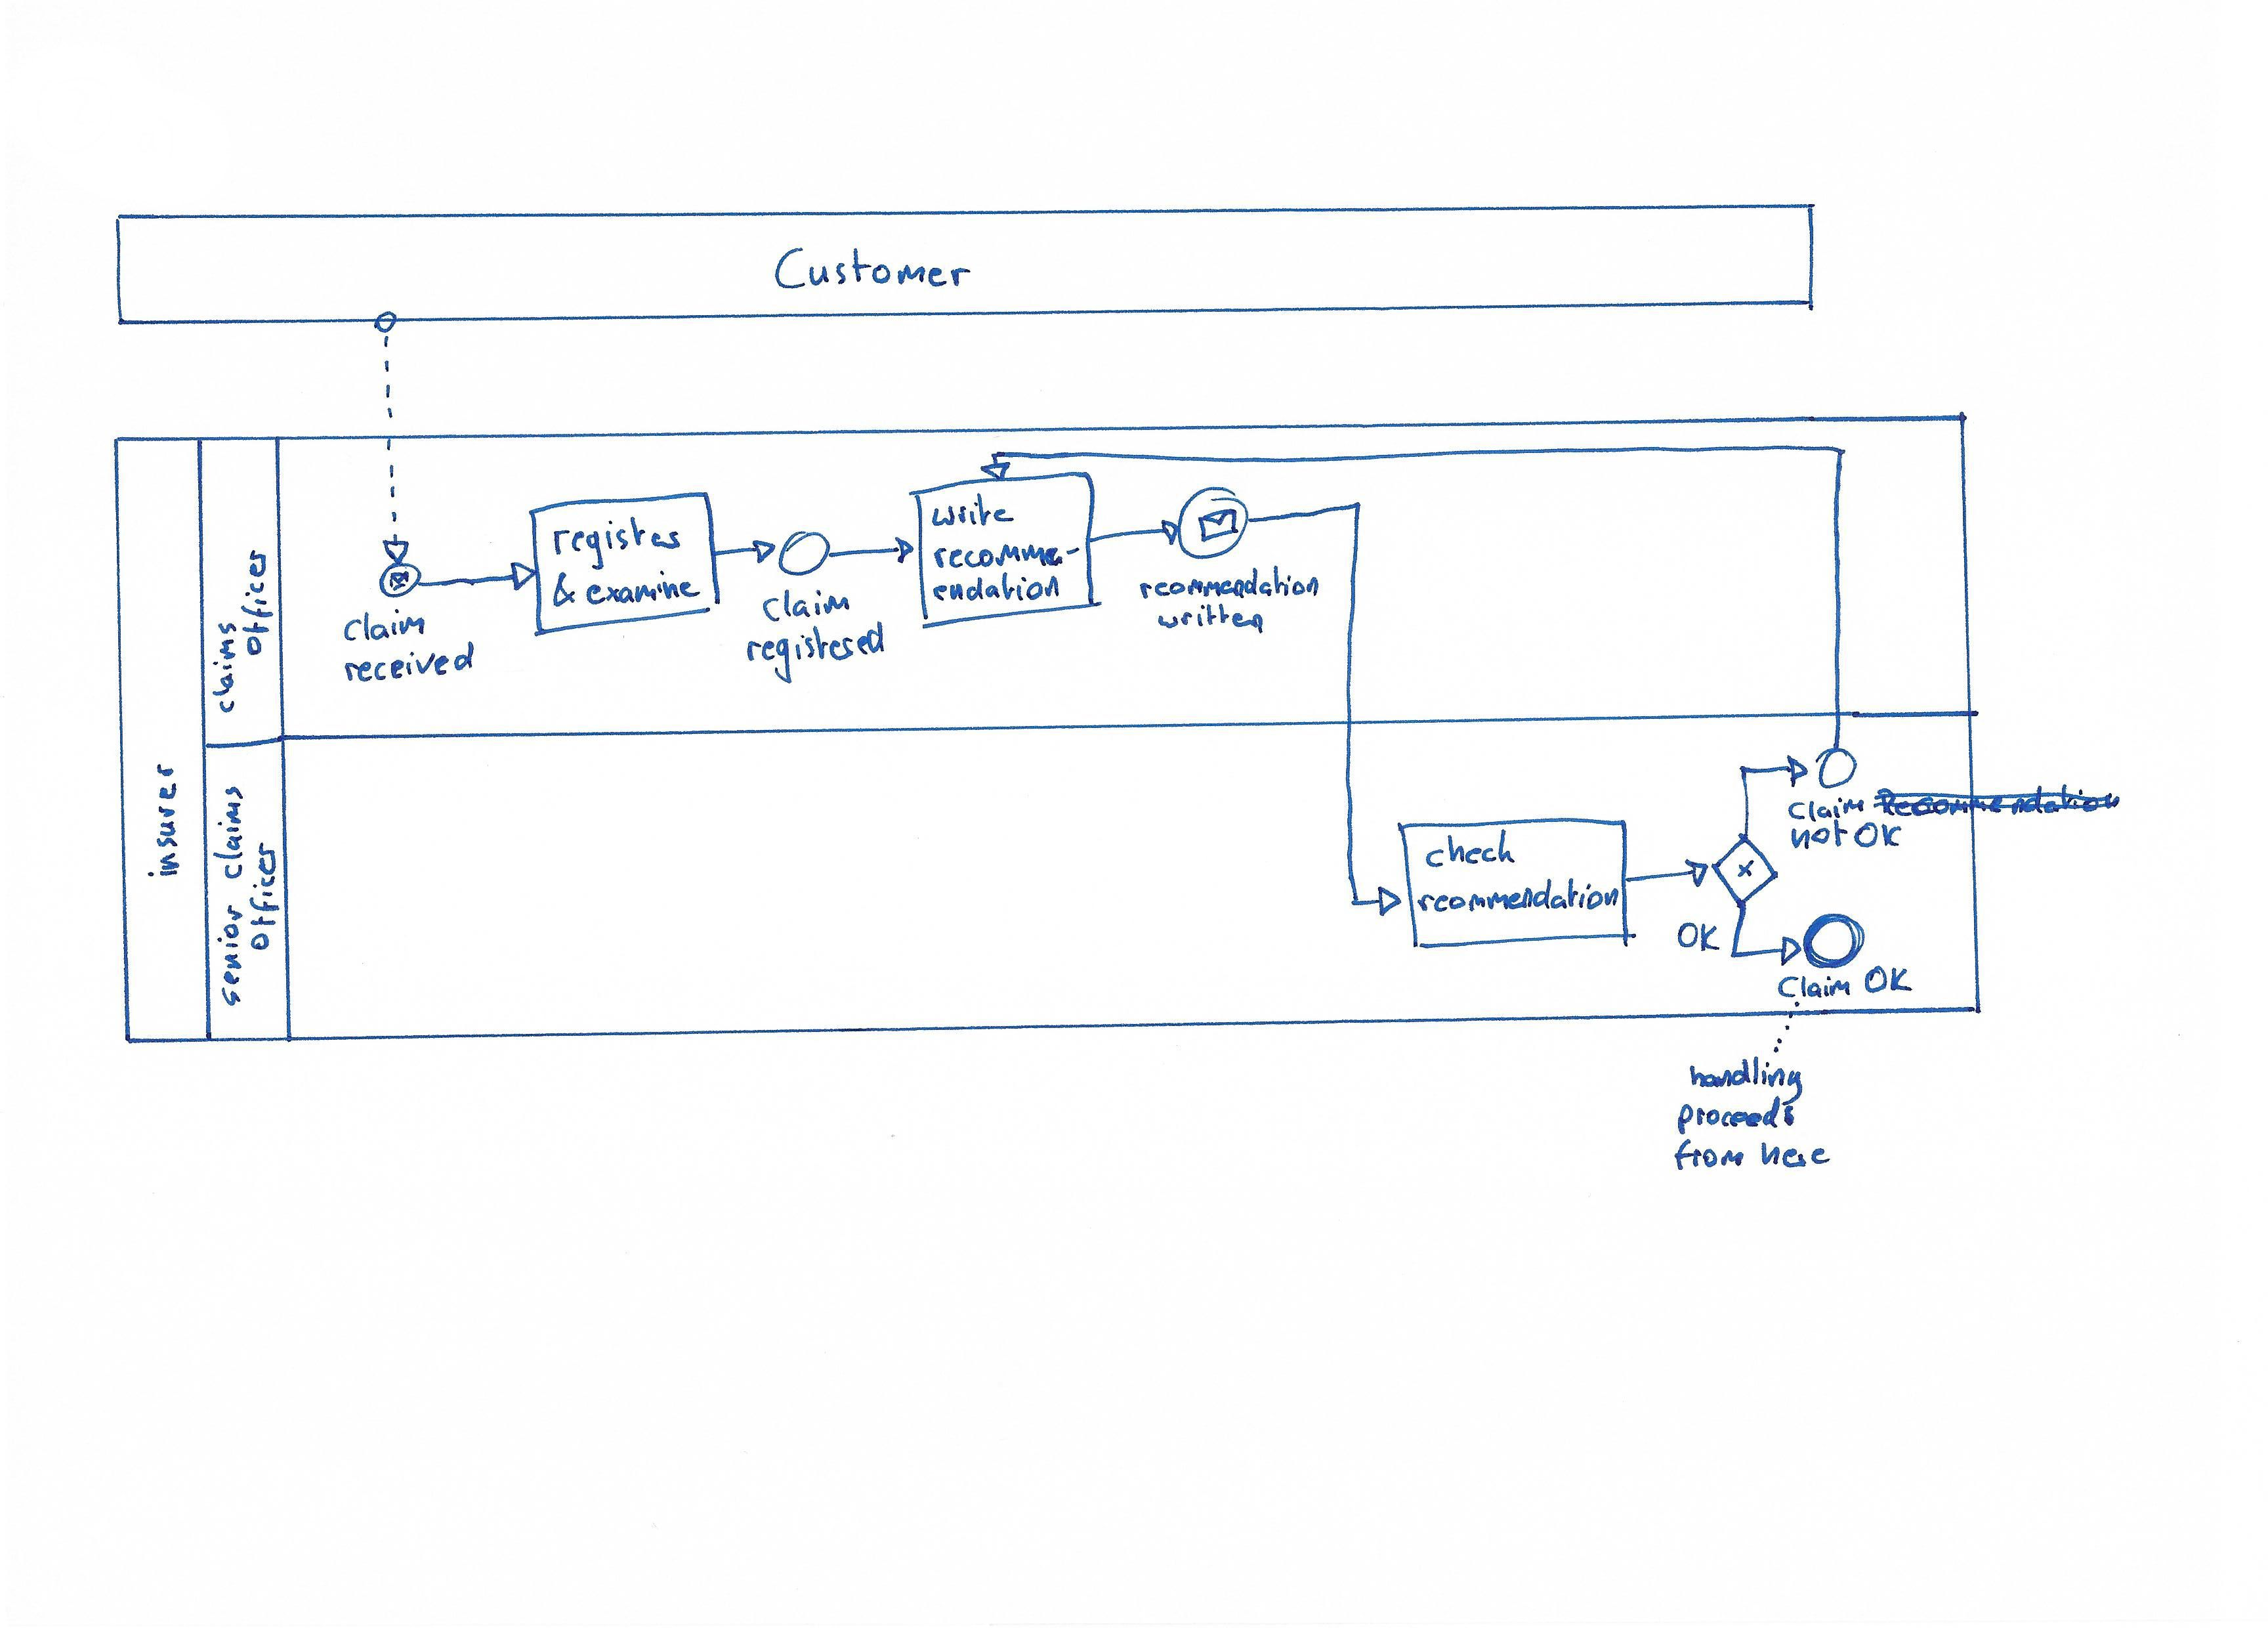&: (548, 567, 579, 613)
Claim: (1771, 971, 1858, 1003)
Customer: (768, 240, 977, 296)
OK: (1859, 960, 1918, 999), (1673, 918, 1726, 957), (1849, 818, 1905, 853)
check: (1419, 825, 1521, 874)
claim: (757, 583, 856, 627), (338, 604, 430, 647), (1784, 793, 1868, 826)
claims: (208, 782, 248, 884), (206, 617, 241, 719)
endation: (926, 567, 1064, 608)
examine: (579, 566, 706, 611)
from: (1668, 1133, 1750, 1177)
handling: (1683, 1052, 1807, 1112)
here: (1754, 1136, 1835, 1173)
insurer: (141, 759, 183, 884)
not: (1786, 812, 1852, 855)
officer: (234, 543, 278, 662), (243, 837, 285, 955)
proceeds: (1673, 1091, 1801, 1140)
rcommendation: (1410, 872, 1624, 918), (1134, 559, 1324, 606)
received: (340, 634, 481, 687)
recomm-: (928, 536, 1085, 574)
register: (546, 511, 687, 574)
registered: (740, 615, 889, 689)
senior: (211, 899, 247, 1013)
write: (924, 490, 1020, 534)
written: (1152, 599, 1268, 640)
